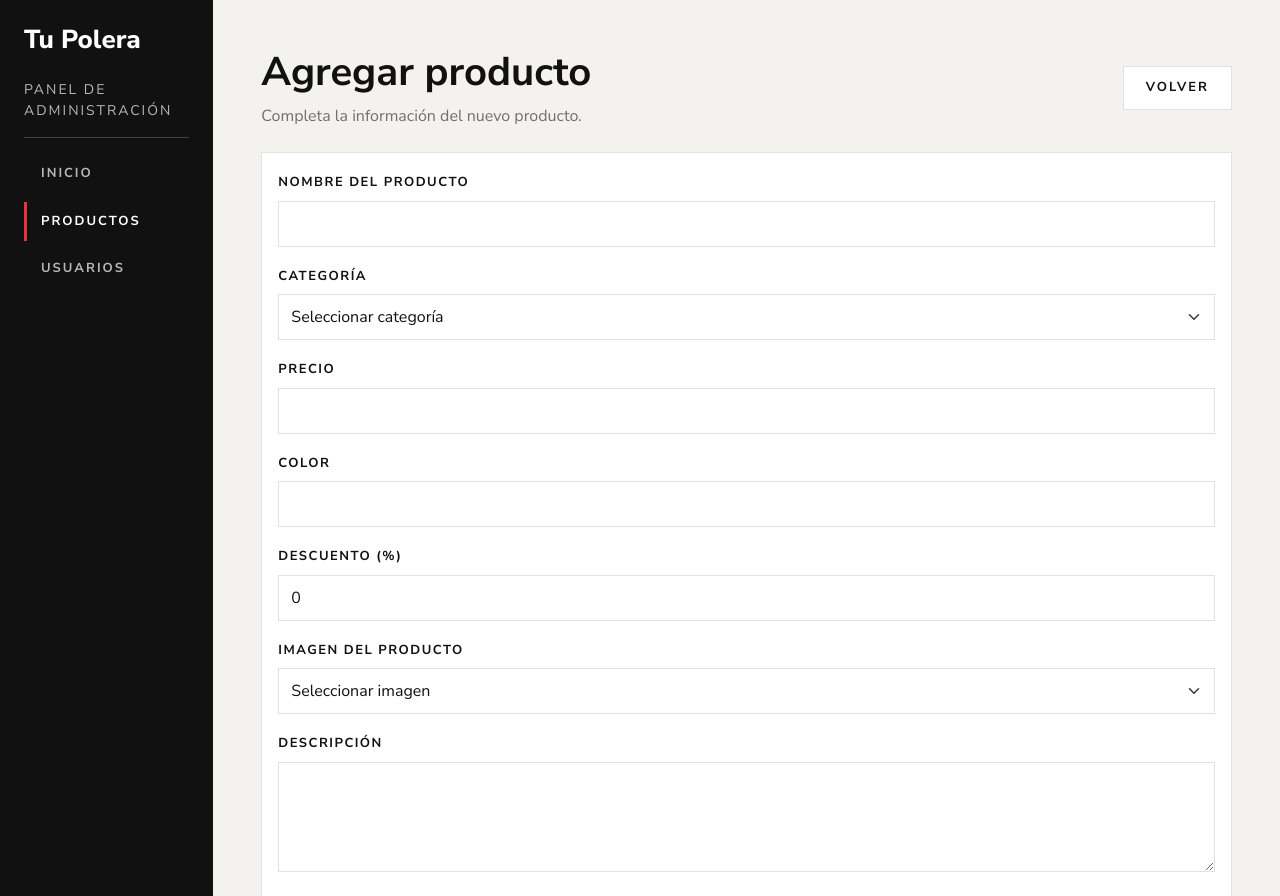
AdminEditarProducto Component › debe actualizar los campos dinámicos al cambiar la categoría
Select "Poleras" in the dropdown labelled "Categoría" at (747, 317), box [278, 294, 1215, 340]
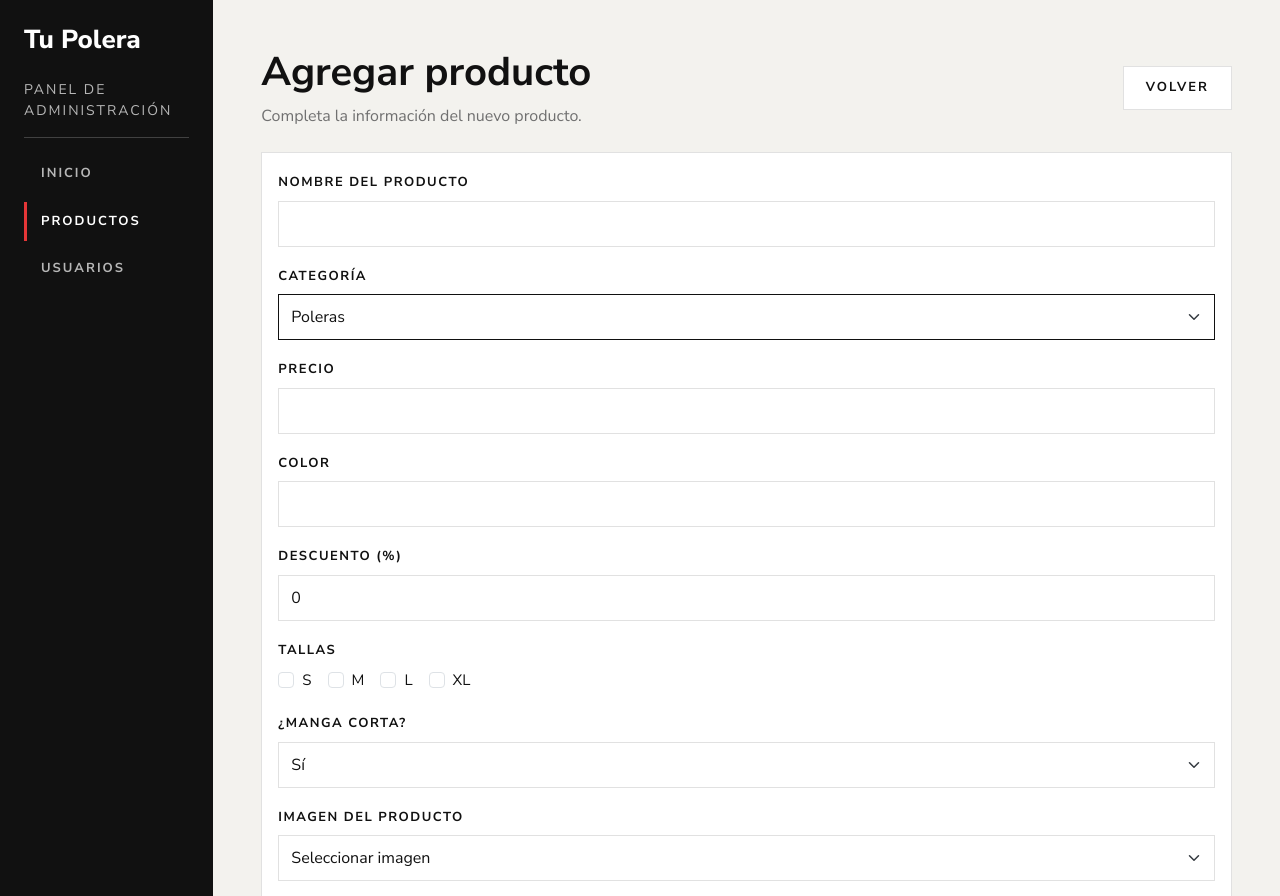
Now the dropdown labelled "¿Manga corta?" is shown, box [278, 742, 1215, 788]
Select "Gorras" in the dropdown labelled "Categoría" at (747, 317), box [278, 294, 1215, 340]
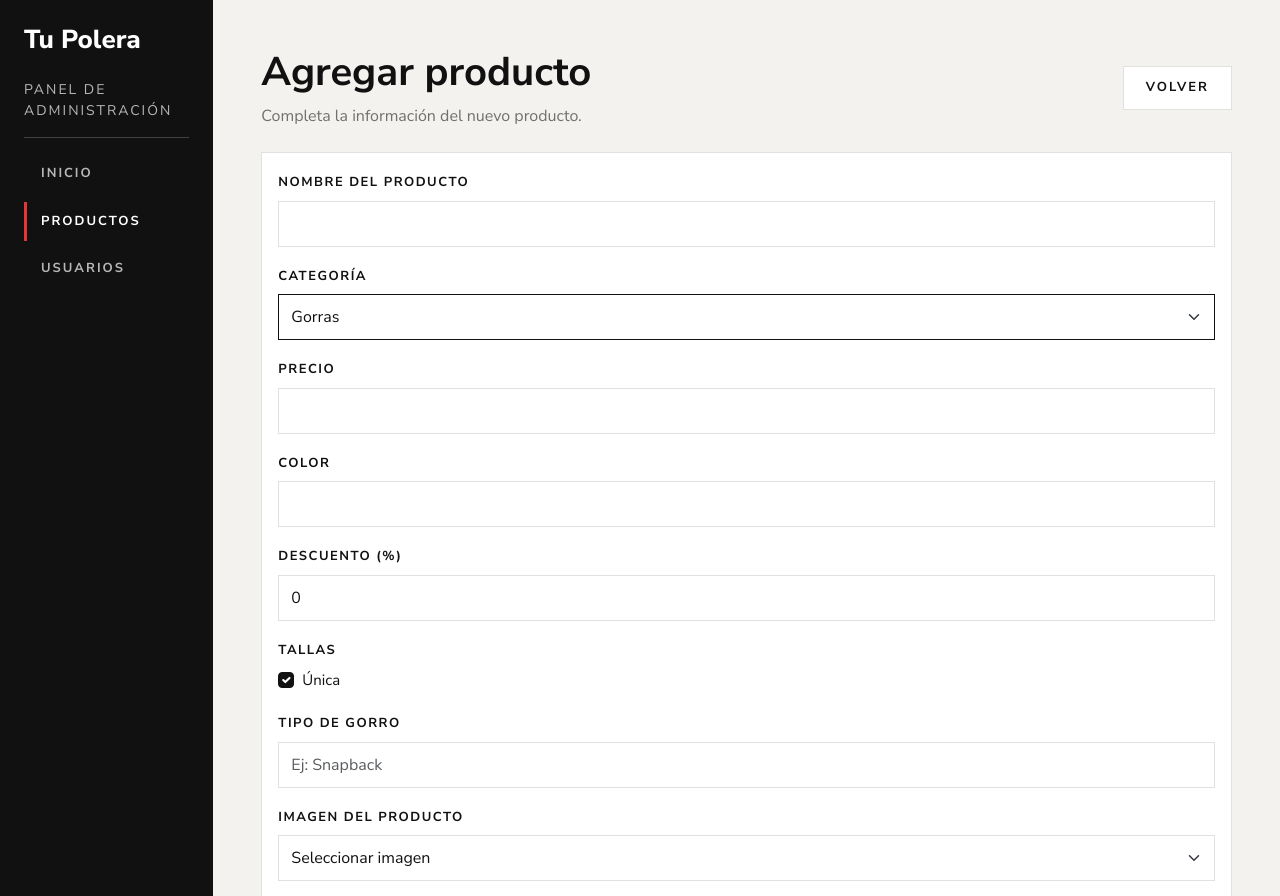
Now the field labelled "Tipo de gorro" is shown, box [278, 742, 1215, 788]
Now the checkbox labelled "Única" is checked, box [278, 672, 294, 688]
